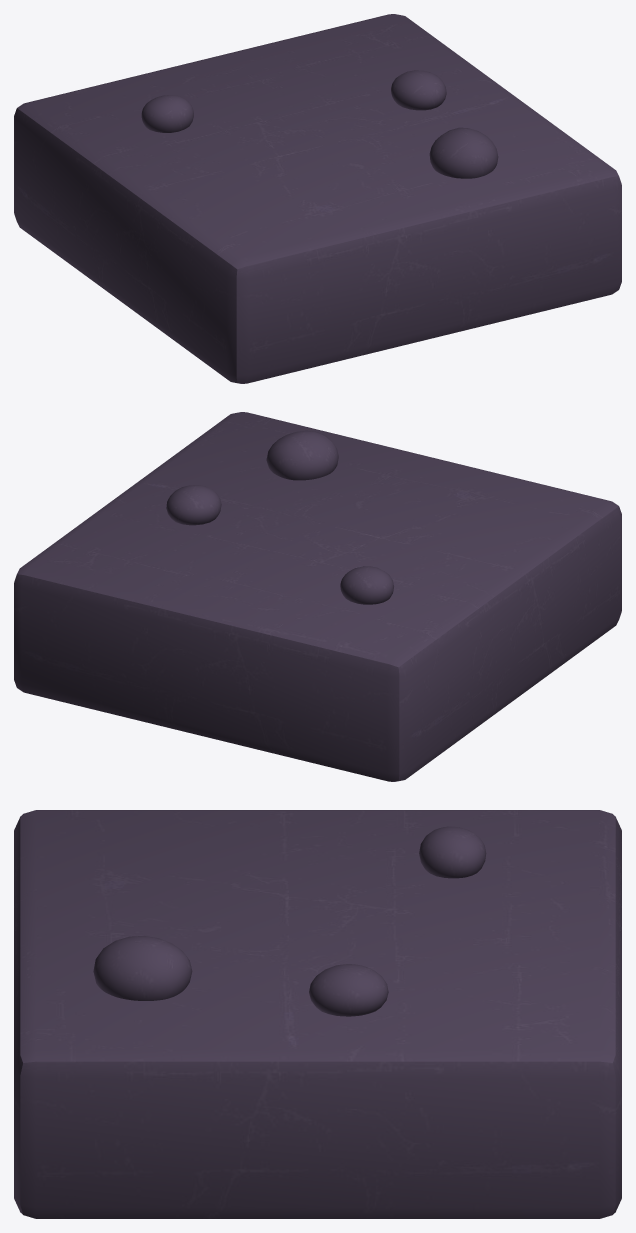
File: vol_ground_basalt_b.glb
3 renders of one model, top to bottom at view 1: azimuth 30°, elevation 25°; view 2: azimuth 150°, elevation 25°; view 3: azimuth 270°, elevation 25°, orthographic. The views are drawn at different scales.
Visible parts, largest first — view 1: vol_ground_basalt_b; view 2: vol_ground_basalt_b; view 3: vol_ground_basalt_b.
Boxes of the visible parts, <box> form: vol_ground_basalt_b: <box>14,14,621,383</box>; vol_ground_basalt_b: <box>14,412,621,781</box>; vol_ground_basalt_b: <box>14,810,621,1218</box>.
Size of the model in its own units: 0.98 by 0.3756 by 0.98.
Materials: 1 (1 with a texture image).
